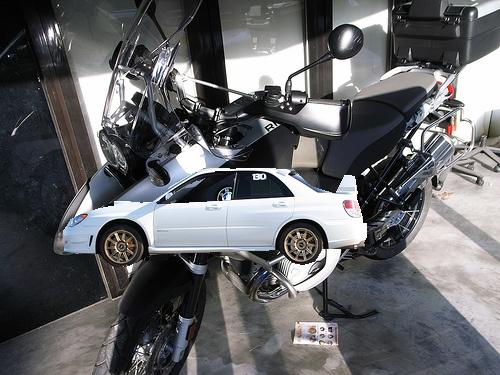tampered: (64, 169, 367, 267)
